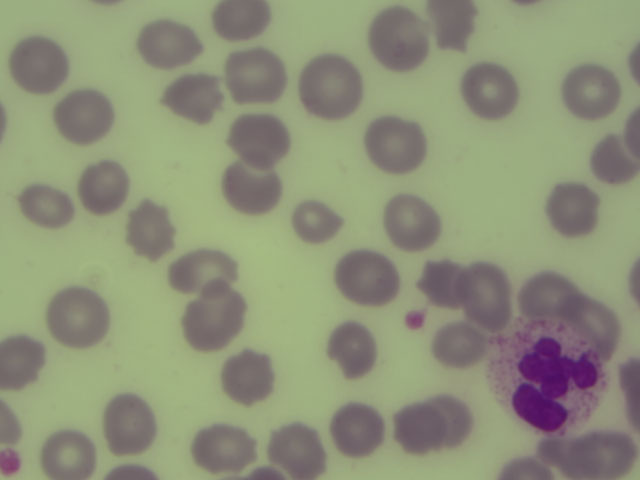Platelets: (1, 447, 24, 473), (406, 310, 427, 330)
RBC: (178, 283, 246, 351), (46, 284, 112, 349), (299, 52, 363, 118), (363, 111, 428, 172), (334, 244, 401, 303), (370, 5, 429, 70), (54, 88, 117, 147), (222, 348, 283, 408), (229, 113, 301, 161), (105, 394, 163, 453), (125, 198, 180, 259), (136, 17, 200, 69), (11, 34, 71, 89), (384, 194, 446, 247), (190, 421, 255, 471), (326, 317, 380, 376), (275, 421, 329, 480), (228, 45, 285, 99), (75, 158, 129, 215), (463, 61, 519, 114), (563, 63, 620, 115), (459, 264, 510, 321), (221, 161, 278, 211), (43, 430, 100, 480), (331, 401, 383, 455), (549, 182, 603, 234), (167, 246, 230, 289), (580, 432, 635, 480), (1, 331, 49, 383), (425, 393, 472, 444), (212, 1, 271, 41), (546, 435, 598, 480), (395, 404, 444, 451), (292, 201, 341, 244), (573, 303, 622, 346), (521, 269, 570, 312), (417, 261, 466, 304), (434, 319, 483, 362), (587, 138, 636, 181), (168, 75, 217, 118), (21, 184, 70, 227), (619, 353, 640, 428), (505, 450, 555, 480), (112, 459, 158, 480), (624, 252, 640, 308), (627, 42, 640, 85)
WBC: (493, 314, 607, 431)
